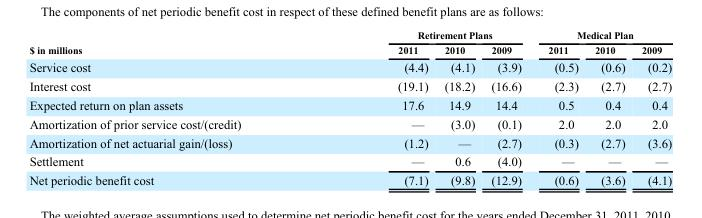table: (28, 29, 671, 186)
table column: (28, 29, 318, 186), (318, 29, 435, 186), (482, 29, 534, 186), (534, 29, 586, 186), (435, 29, 482, 186), (586, 29, 632, 186), (632, 29, 671, 186)
table column header: (28, 29, 671, 57)
table row: (28, 57, 671, 76), (28, 76, 671, 95), (28, 95, 671, 114), (28, 114, 671, 133), (28, 151, 671, 170), (28, 133, 671, 151), (28, 170, 671, 186), (28, 42, 671, 57), (28, 29, 671, 42)
table spanning cell: (28, 29, 318, 57), (318, 29, 534, 42), (534, 29, 671, 42)
